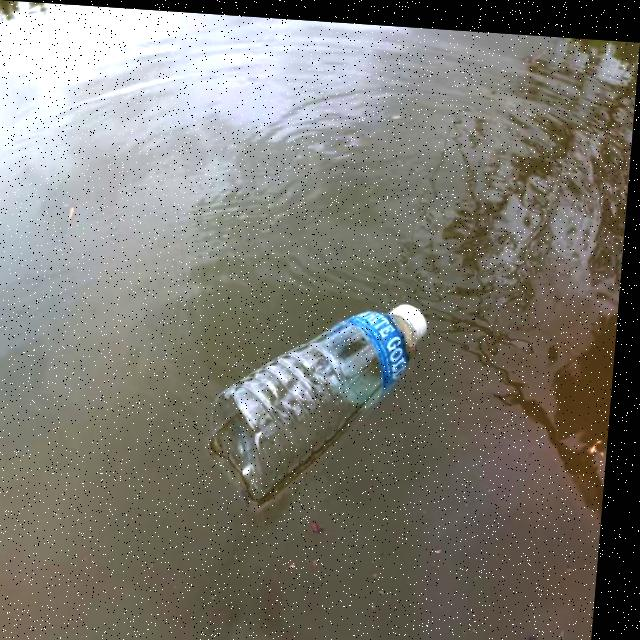waterbottle: (201, 250, 436, 513)
